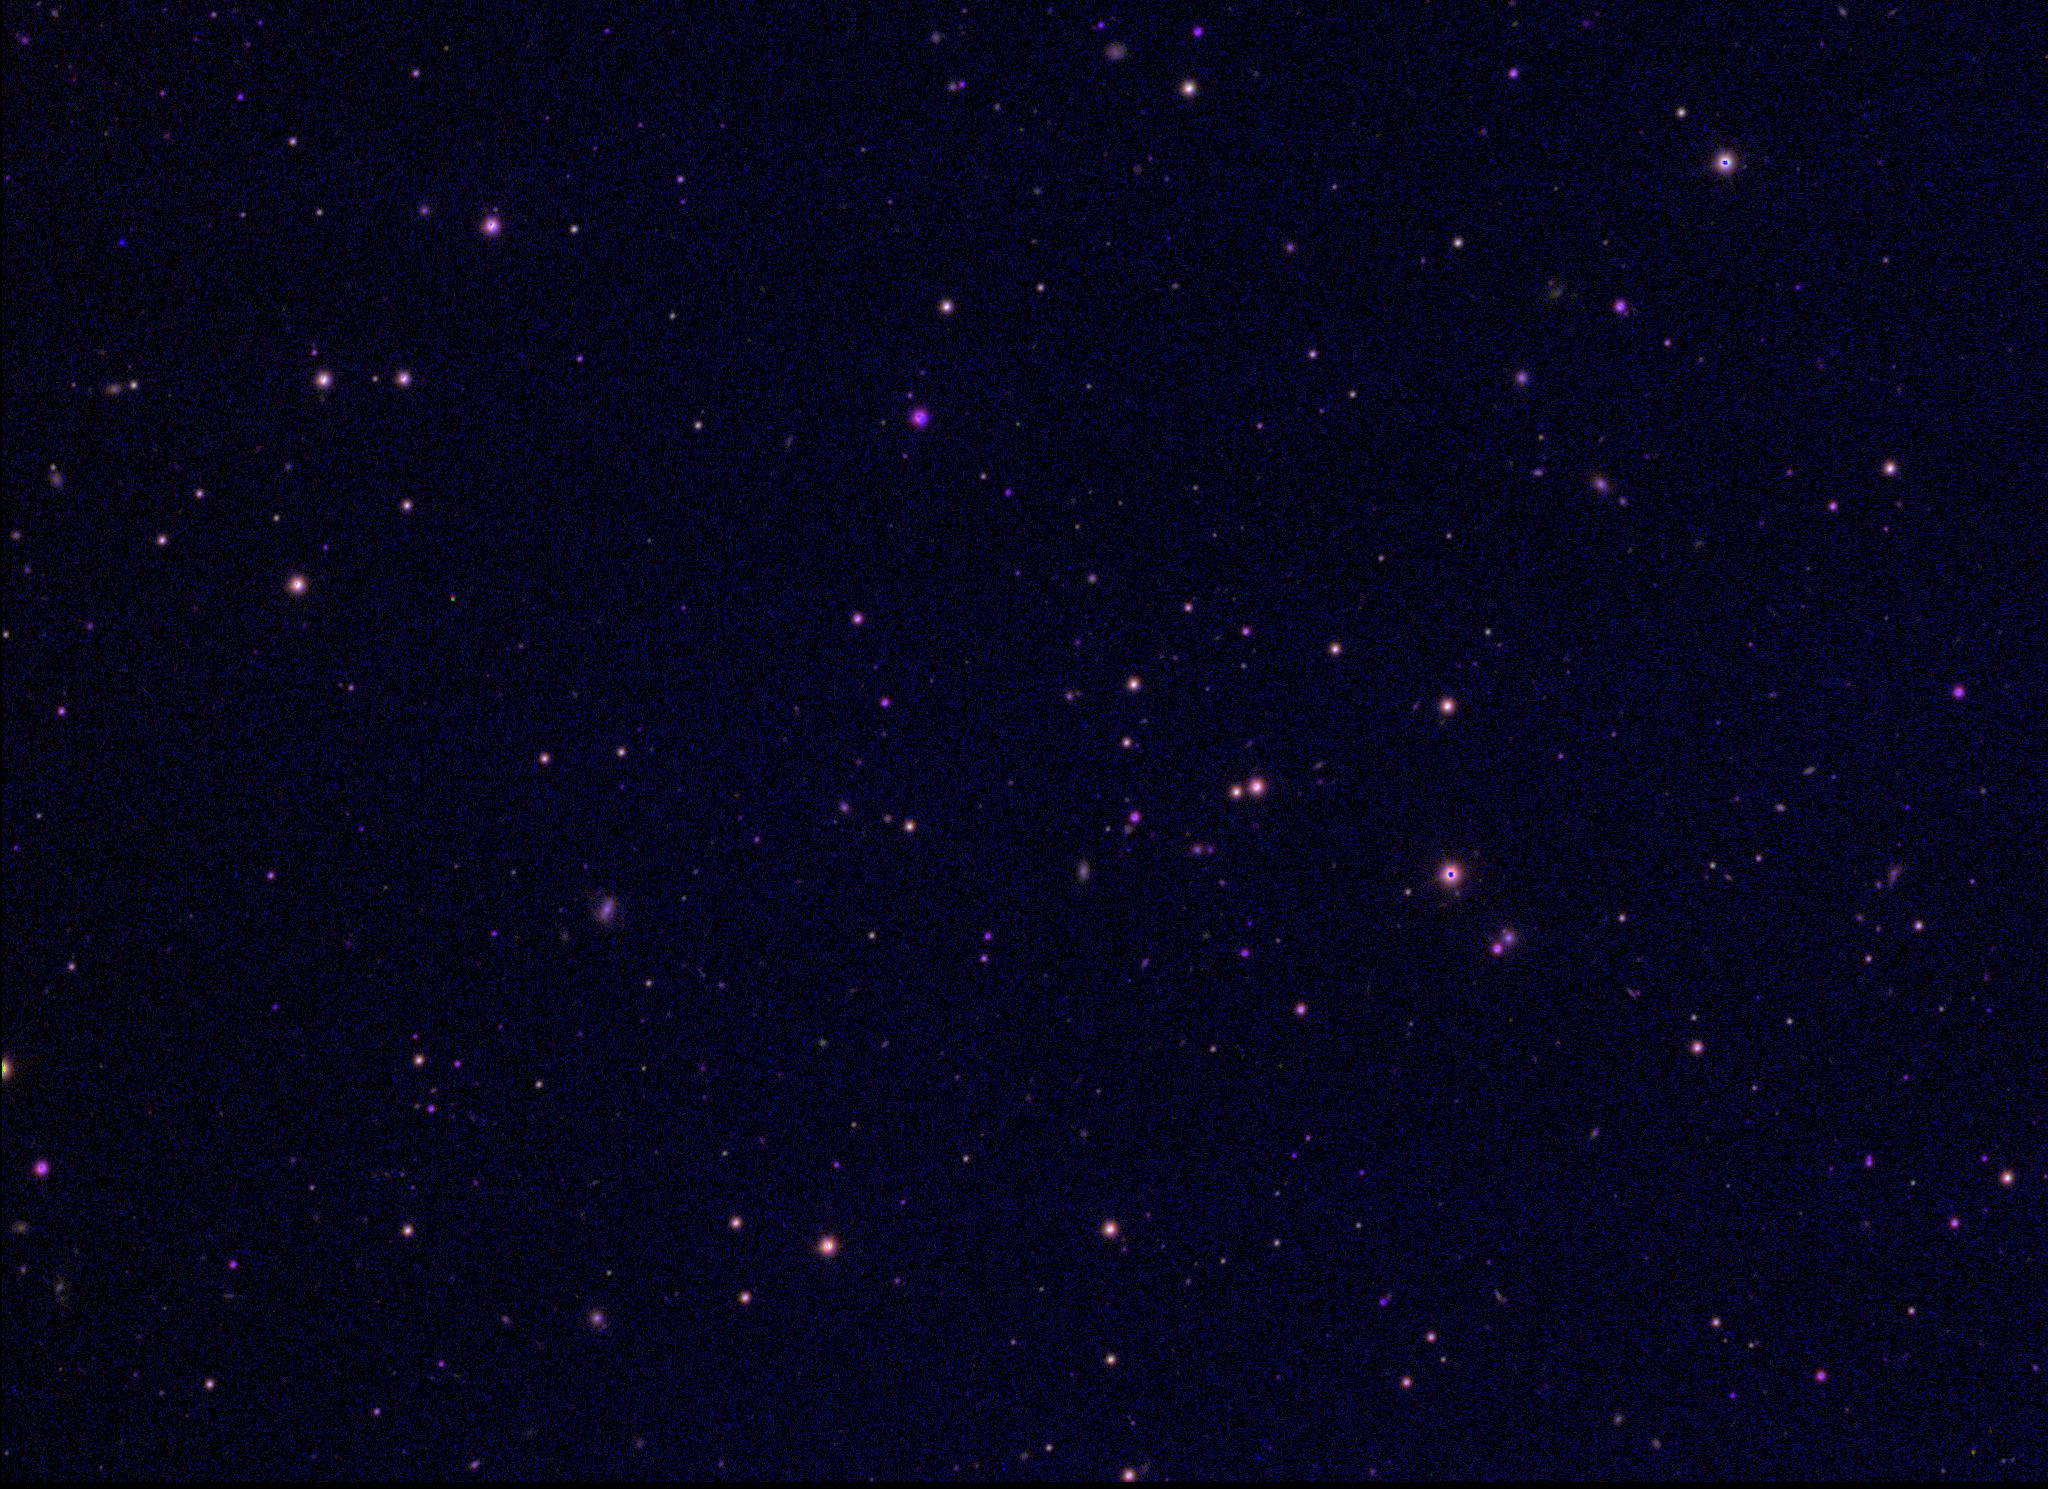L: (113, 232, 127, 247)
